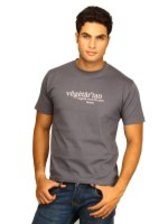clothoes: (26, 56, 151, 188)
